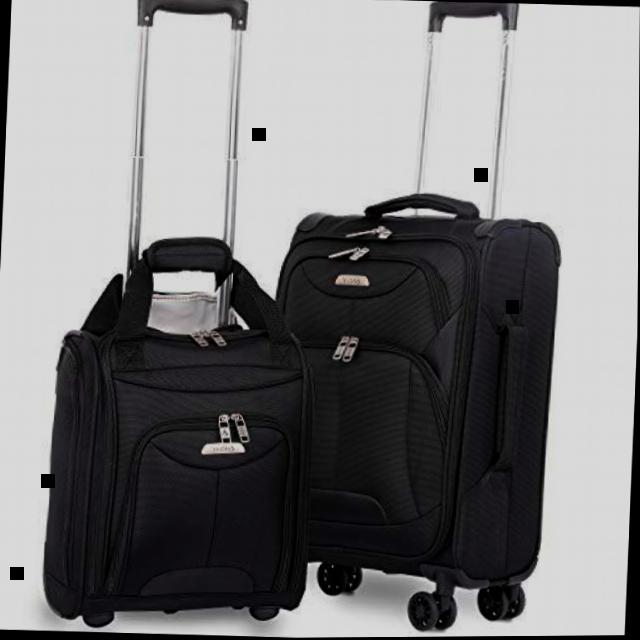luggage: (255, 181, 573, 598), (36, 228, 327, 628)
